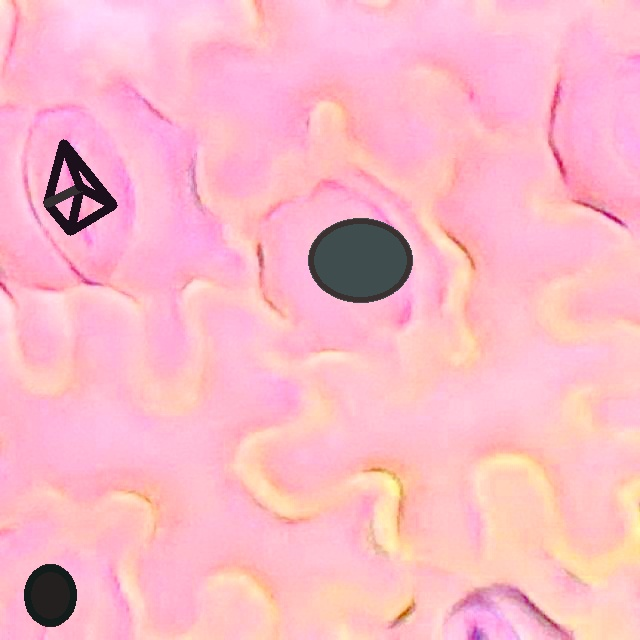close: (308, 218, 411, 302)
open: (43, 139, 117, 235), (24, 564, 75, 626)
